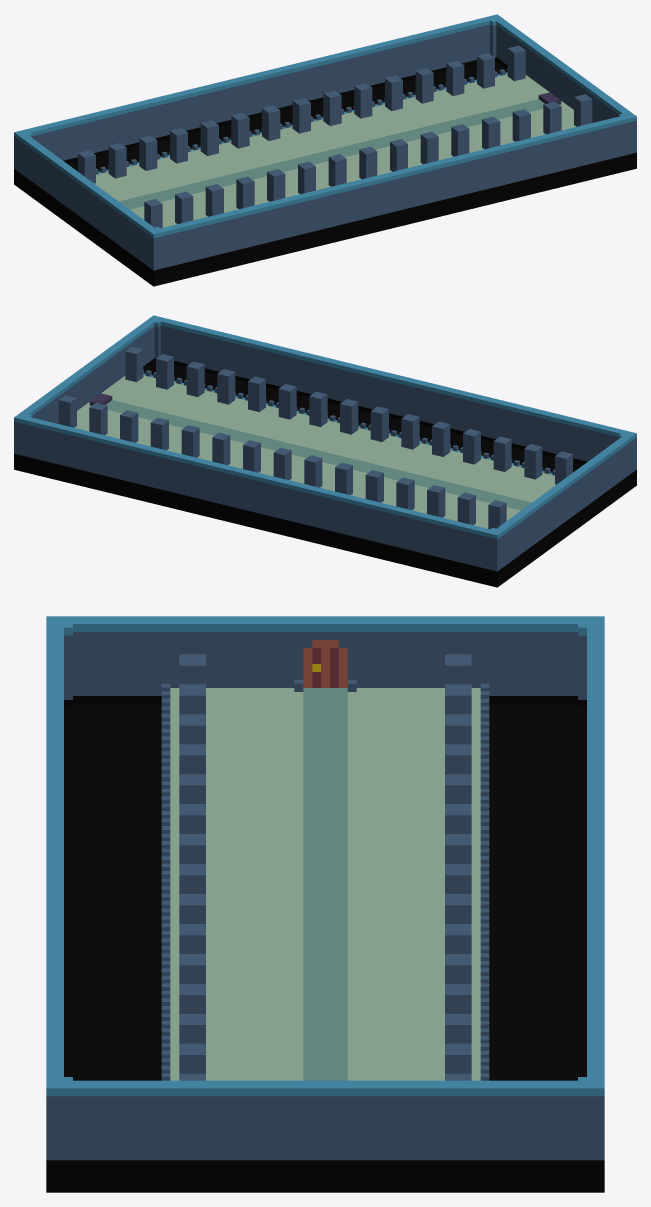
File: hab1.6.obj
3 renders of one model, top to bottom at view 1: azimuth 30°, elevation 25°; view 2: azimuth 150°, elevation 25°; view 3: azimuth 270°, elevation 25°, orthographic. The views are drawn at different scales.
Size of the model in its own units: 126 by 13 by 63.
1 material, 1 textured.
